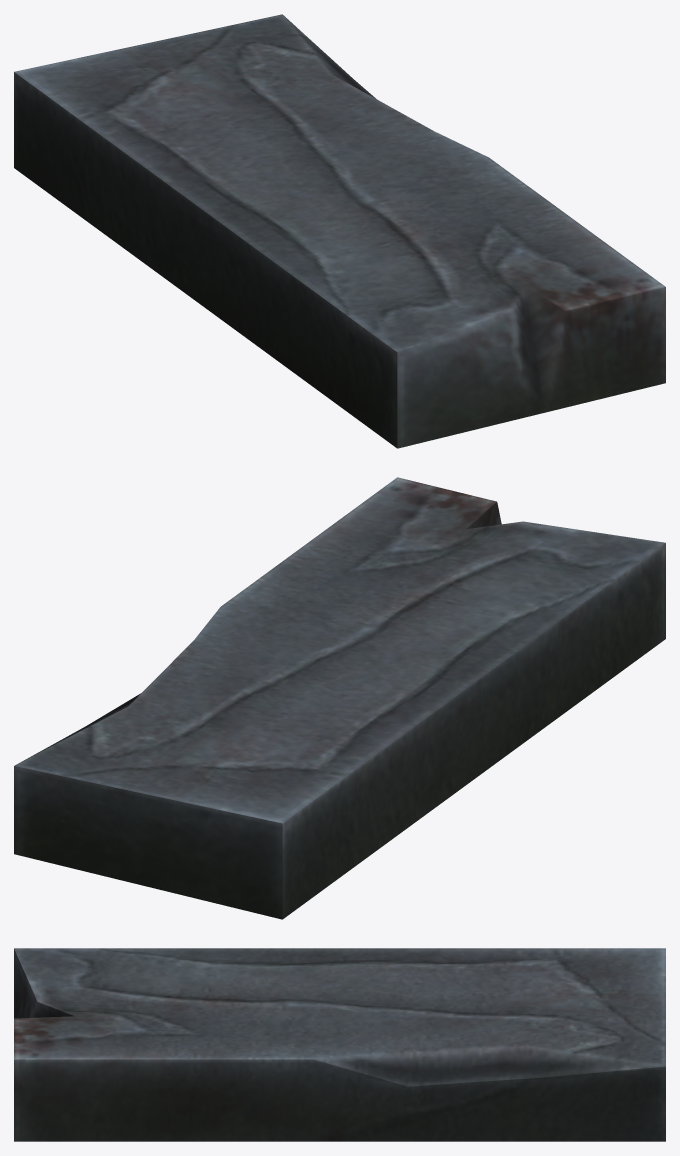
The model's file is B_shizhuan003.fbx.
The picture shows the model from 3 angles, top to bottom: view 1: azimuth 30°, elevation 25°; view 2: azimuth 150°, elevation 25°; view 3: azimuth 270°, elevation 25°; orthographic projection. The views are drawn at different scales.
Visible parts, largest first — view 1: B_shizhuan003; view 2: B_shizhuan003; view 3: B_shizhuan003.
Part boxes in pixels (x1,y1,x2,y2): B_shizhuan003: (14,14,665,448); B_shizhuan003: (14,477,665,919); B_shizhuan003: (14,948,665,1141).
Bounding box in the file's own units: 52.75 × 18.05 × 130.
